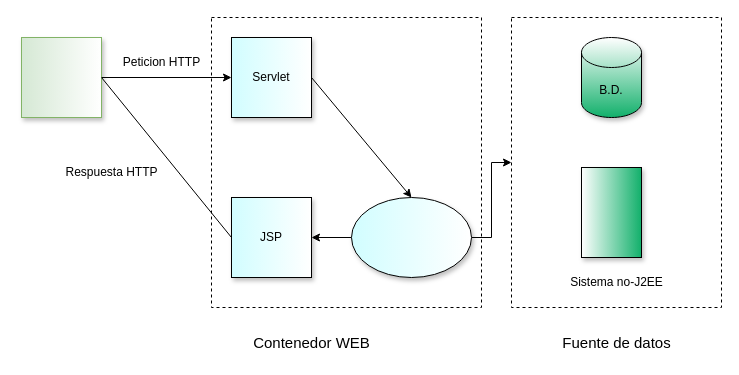
Some shapes in this 739 by 375 pixel diagram are drawn without their labels. Here are the shapes that lost their labels. From the top down, the centre of each, then its label:
At [62,78]: "Cliente".
At [412,238]: "Beans".
